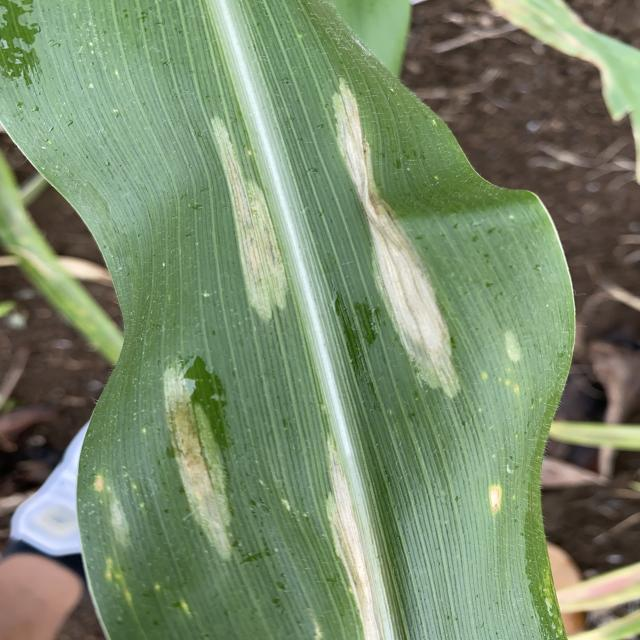Corn_Leaf_Blight: (64, 64, 562, 640)
